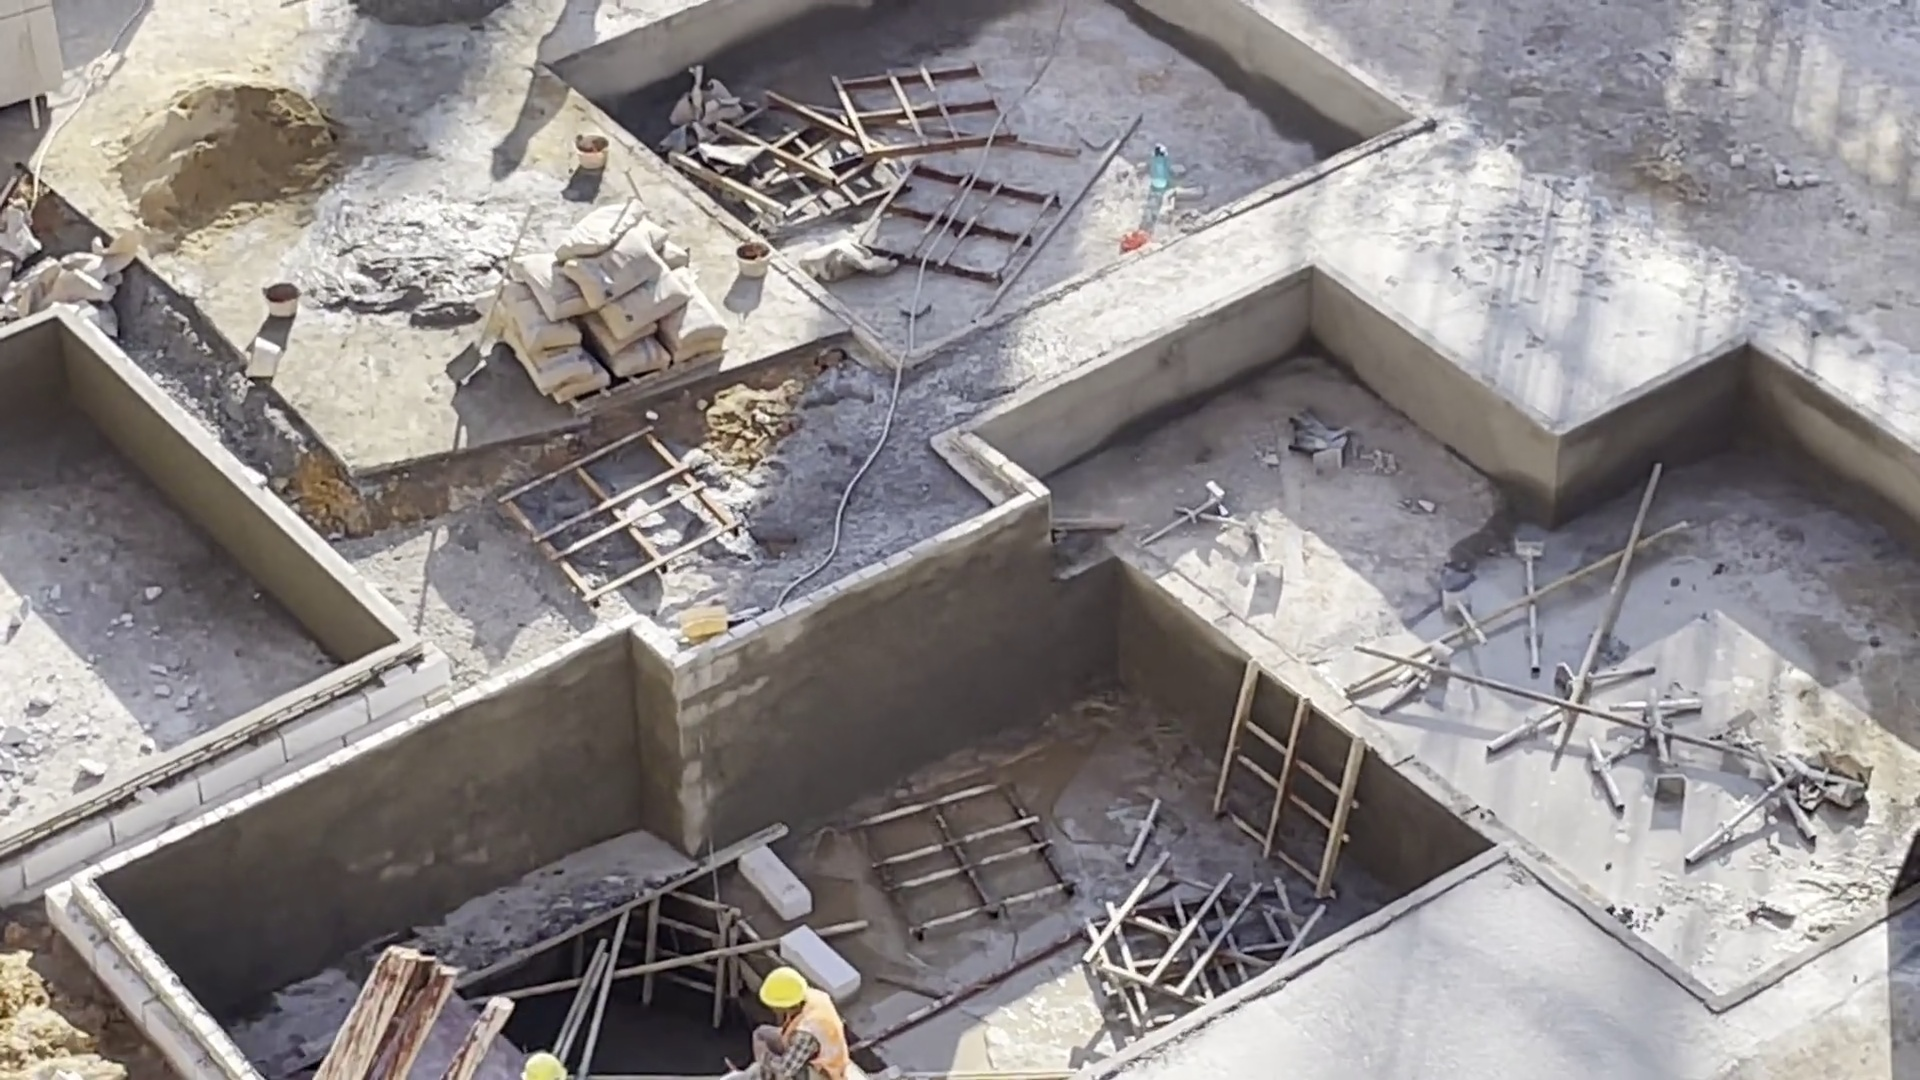helmet: (757, 965, 808, 1009)
person: (741, 967, 850, 1080)
vest: (792, 1000, 865, 1080)
